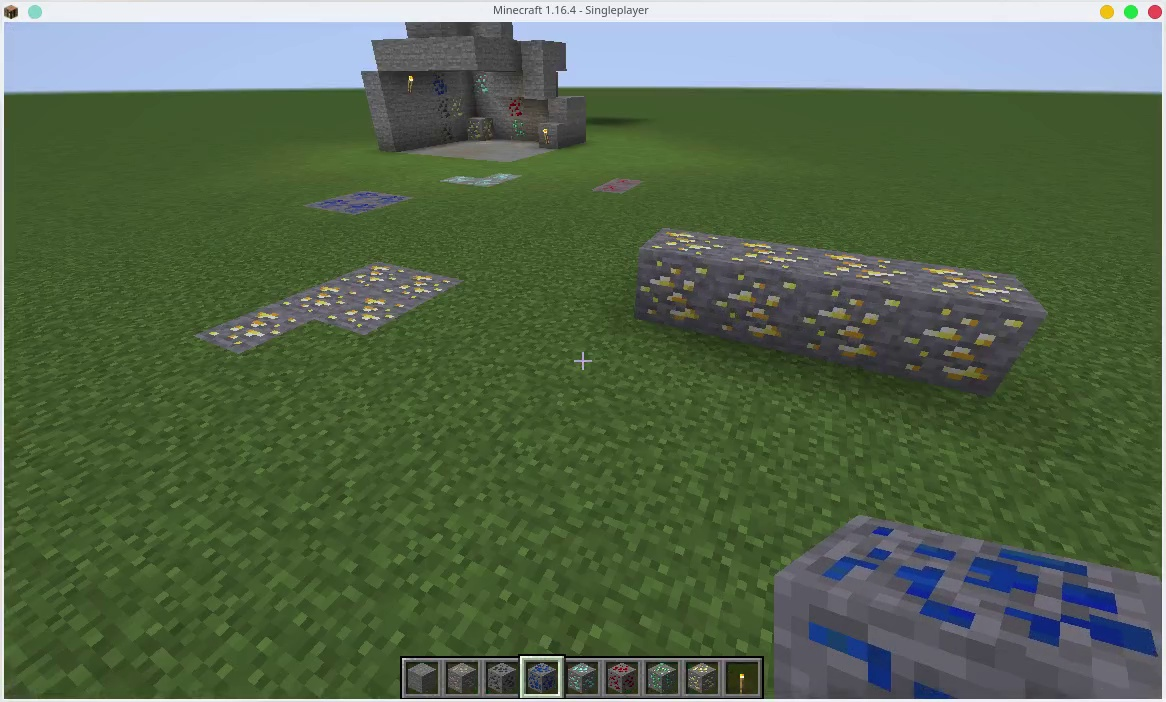gold: (914, 269, 1033, 410), (824, 255, 906, 379), (640, 228, 717, 331), (724, 243, 801, 345), (206, 302, 313, 349), (336, 296, 408, 331), (404, 272, 460, 310), (293, 279, 342, 313), (348, 258, 396, 289), (684, 662, 715, 692), (471, 120, 497, 140), (452, 93, 467, 125)
